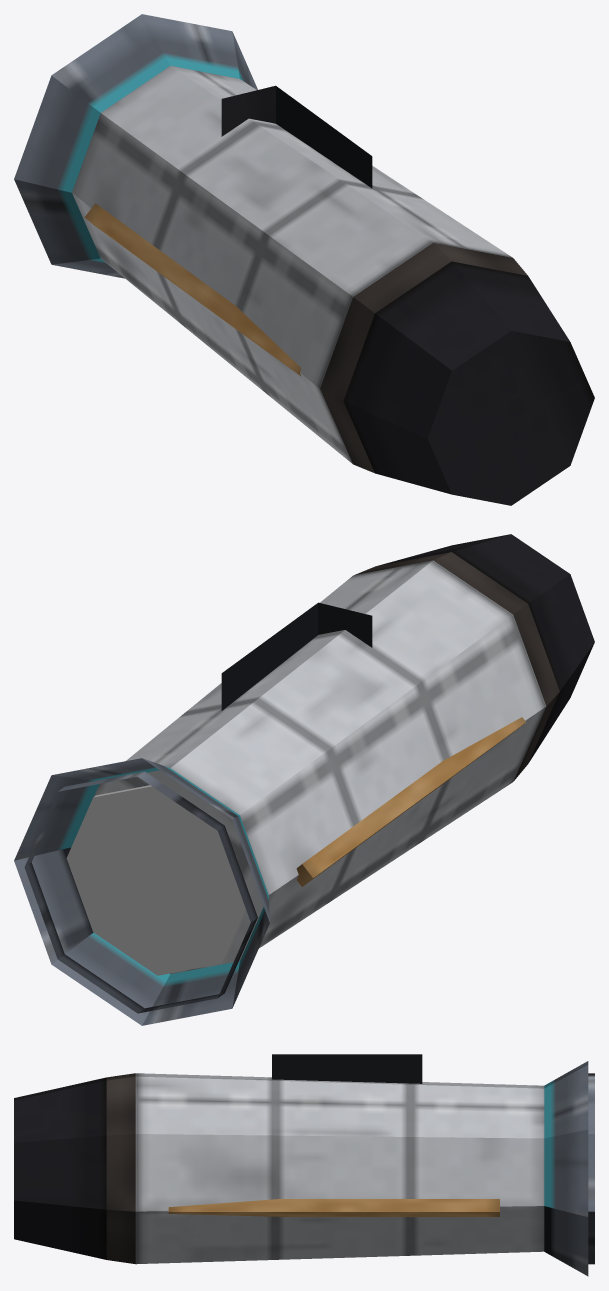
File: ship_nacelle.obj
3 renders of one model, top to bottom at view 1: azimuth 30°, elevation 25°; view 2: azimuth 150°, elevation 25°; view 3: azimuth 270°, elevation 25°, orthographic. The views are drawn at different scales.
Visible parts, largest first — view 1: body, cowl, bell, intake, pylon, rails; view 2: body, exhaust, bell, cowl, glow, pylon, rails, intake; view 3: body, cowl, bell, intake, rails, pylon, glow.
Part boxes in pixels (x1,y1,x2,y2): body: [72, 66, 512, 463]; cowl: [343, 261, 594, 505]; bell: [14, 14, 257, 278]; intake: [320, 242, 527, 473]; pylon: [221, 85, 372, 188]; rails: [84, 203, 301, 375]; body: [94, 560, 546, 973]; exhaust: [66, 785, 246, 975]; bell: [14, 758, 269, 1025]; cowl: [376, 534, 594, 762]; glow: [24, 771, 257, 1013]; pylon: [221, 602, 372, 710]; rails: [296, 717, 525, 886]; intake: [354, 552, 559, 780]; body: [135, 1073, 544, 1264]; cowl: [14, 1077, 106, 1259]; bell: [544, 1061, 588, 1276]; intake: [106, 1073, 135, 1263]; rails: [168, 1199, 499, 1216]; pylon: [272, 1054, 422, 1083]; glow: [588, 1073, 594, 1264].
Bounding box in the file's own units: 1.04 × 1.04 × 2.63.
